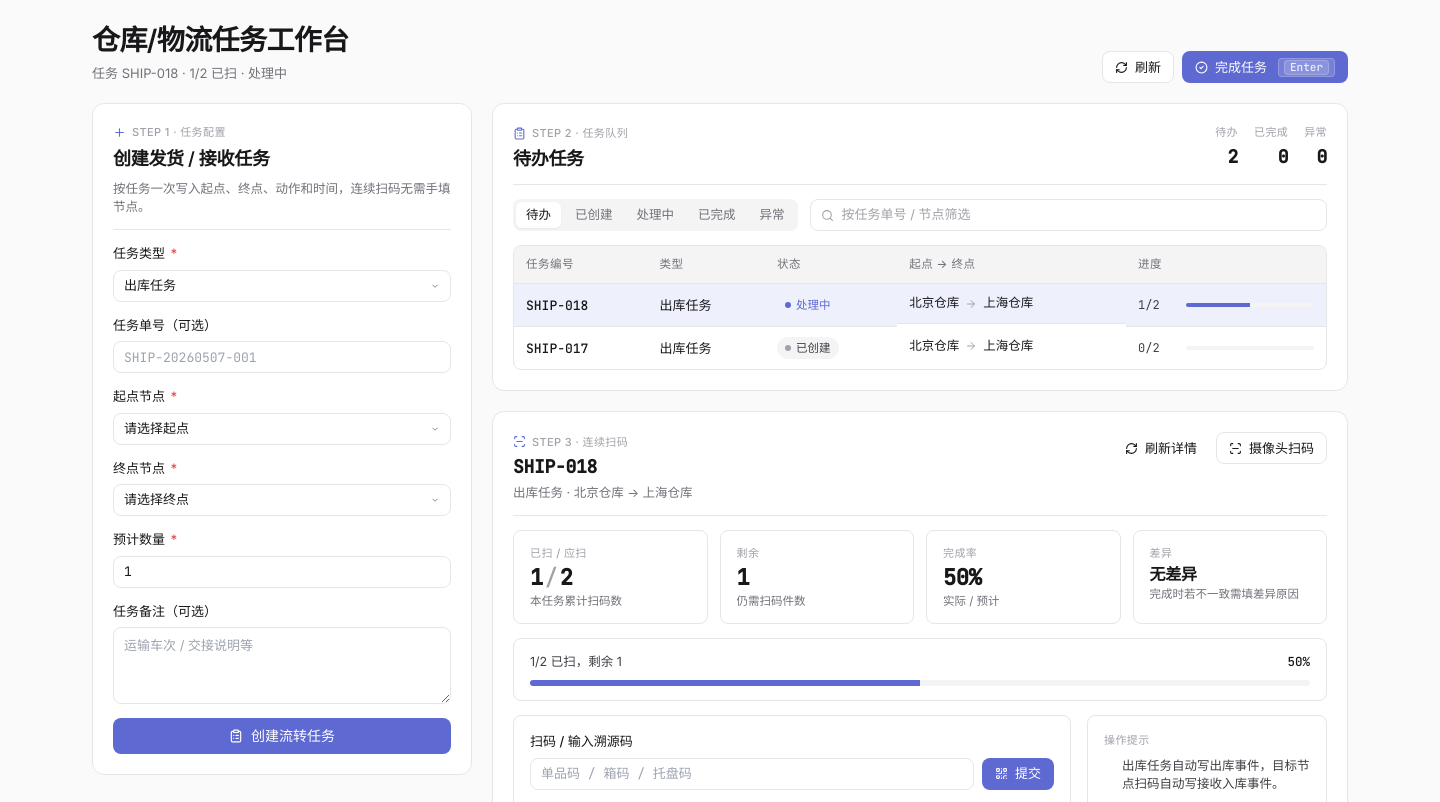
Scenario: TraceFlowTaskWorkbench (Linear shell) › switches status filter and reloads tasks for the selected status
Click the button with test id "flow-task-filter-COMPLETED" at (717, 215), box [688, 202, 746, 228]
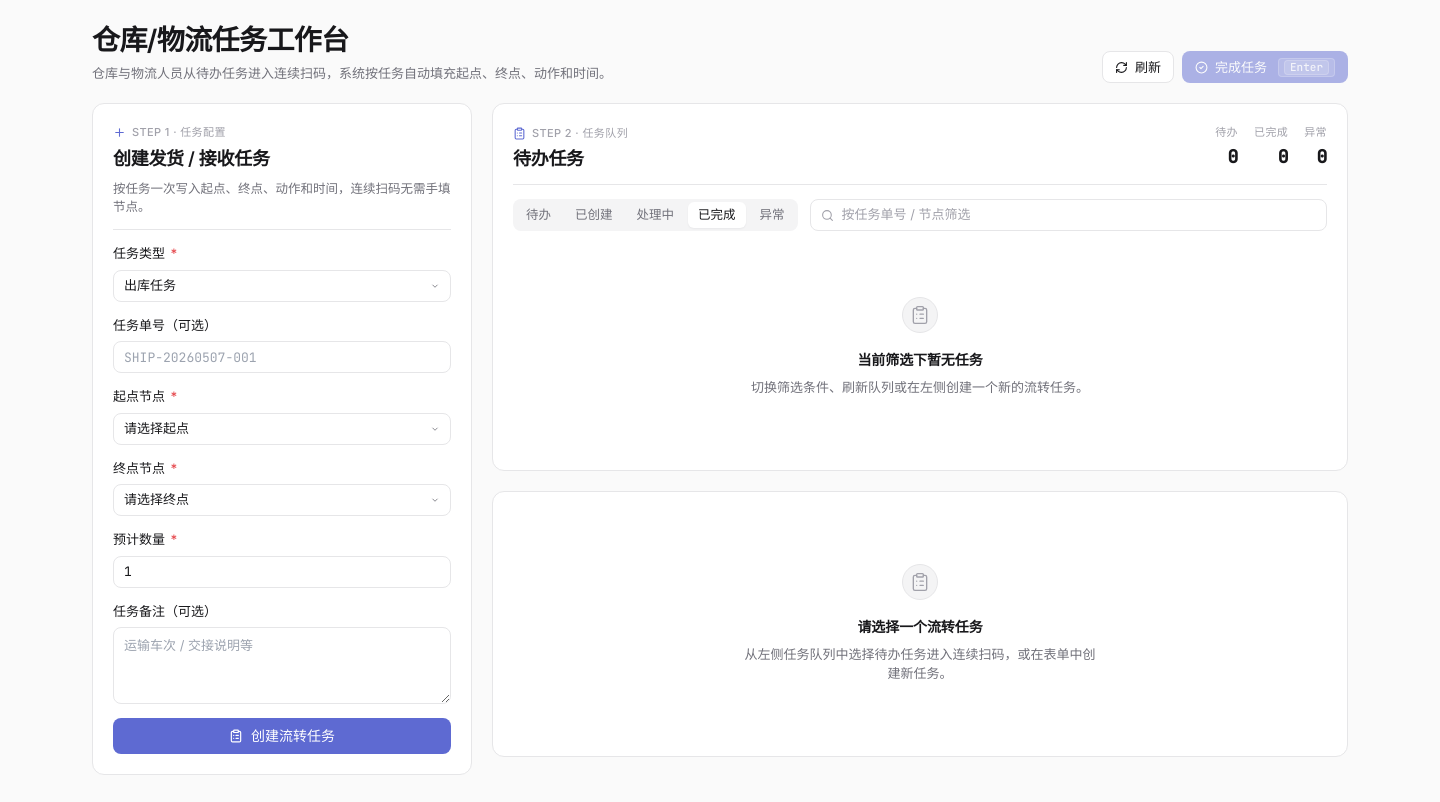
Check: the element with test id "flow-task-empty" is shown, box [751, 297, 1089, 395]
